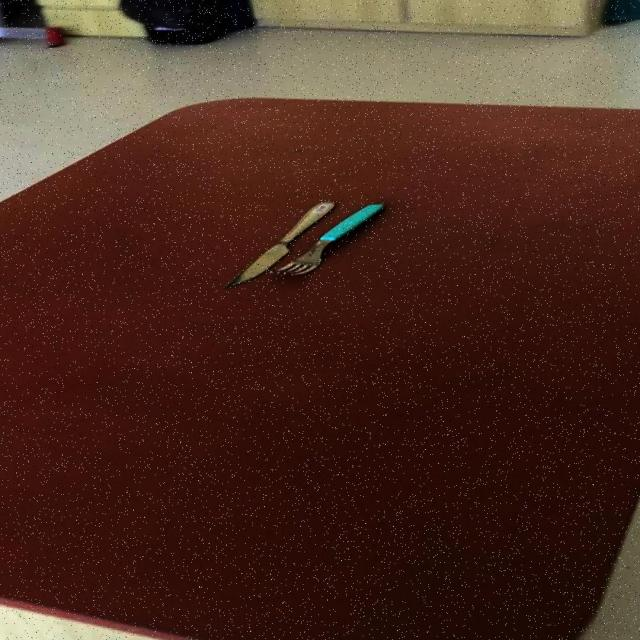Fork: (268, 202, 384, 276)
Knife: (221, 200, 335, 288)
